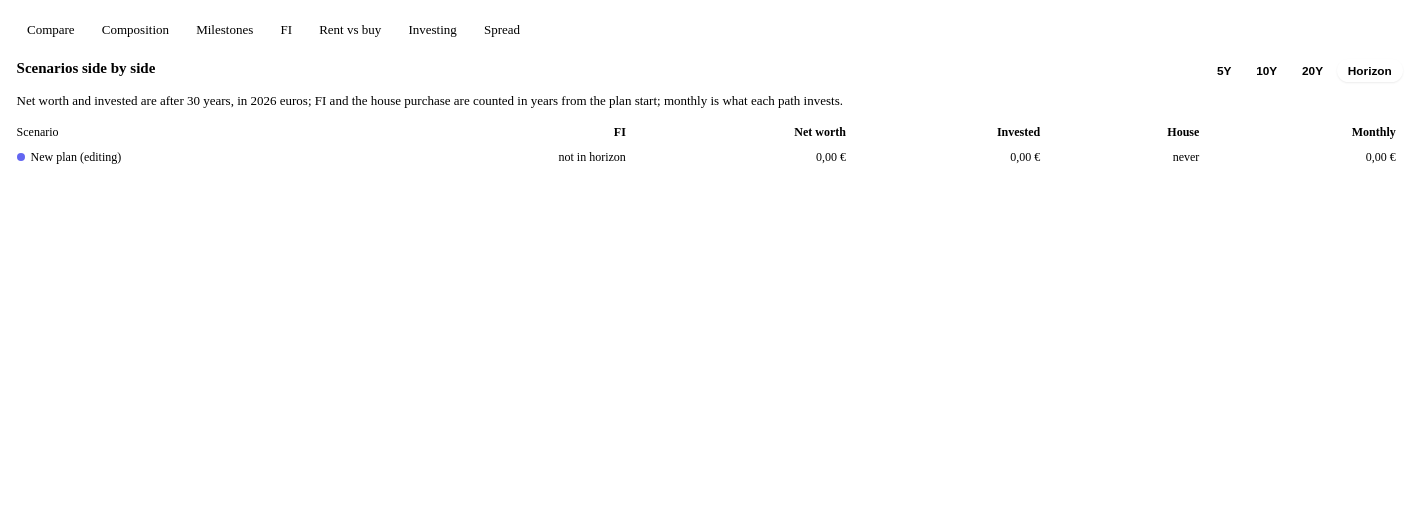
Test: the phone chart picker › has the spread as its last view, which loads when it is chosen
Step 1. Click the radio button labelled "Spread" → [502, 30], box x1=474 y1=16 x2=530 y2=43
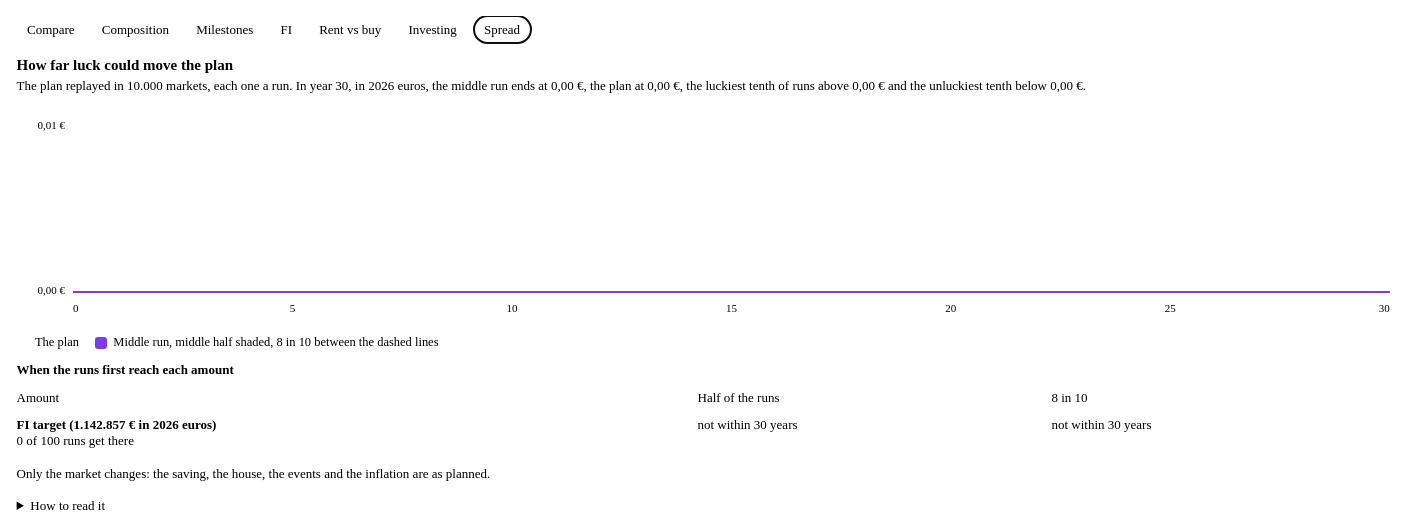
expect the heading "How far luck could move the plan" is shown: met, box x1=17 y1=57 x2=233 y2=73
